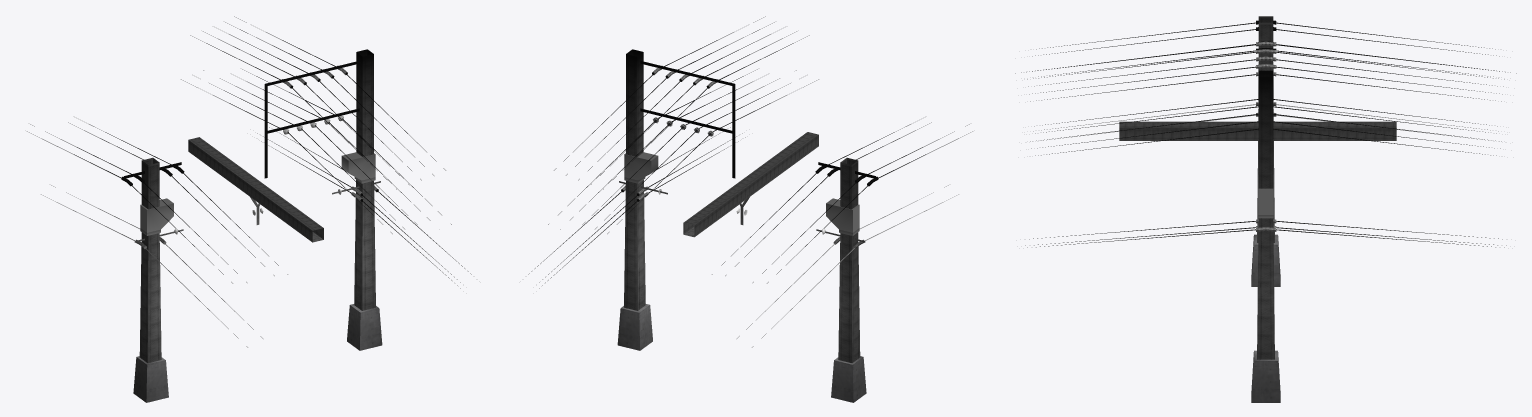
Rendered from AMB_KASENCHU.glb.
3 renders of one model, left to right at view 1: azimuth 30°, elevation 25°; view 2: azimuth 150°, elevation 25°; view 3: azimuth 270°, elevation 25°, orthographic. The views are drawn at different scales.
Visible parts, largest first — view 1: J00, obj3, Mesh1; view 2: J00, obj3, Mesh1; view 3: J00, Mesh1, obj3.
Boxes of the visible parts, x1=… form: J00: x1=181, y1=16, x2=471, y2=350; obj3: x1=27, y1=122, x2=287, y2=402; Mesh1: x1=188, y1=137, x2=323, y2=242; J00: x1=528, y1=16, x2=818, y2=350; obj3: x1=712, y1=122, x2=972, y2=402; Mesh1: x1=683, y1=132, x2=818, y2=237; J00: x1=1025, y1=41, x2=1506, y2=402; Mesh1: x1=1119, y1=121, x2=1396, y2=140; obj3: x1=1032, y1=16, x2=1499, y2=286.
Size of the model in its own units: 32.87 by 35.43 by 50.
Materials: 13 (13 with a texture image).
